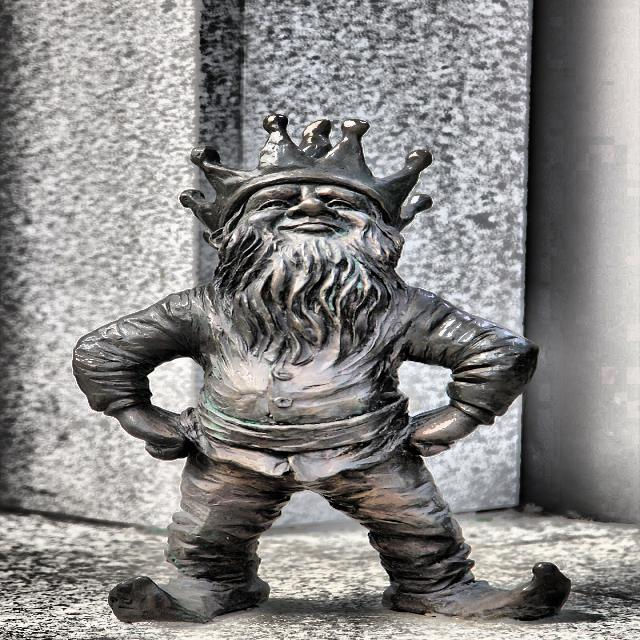Koronus: (71, 117, 572, 626)
